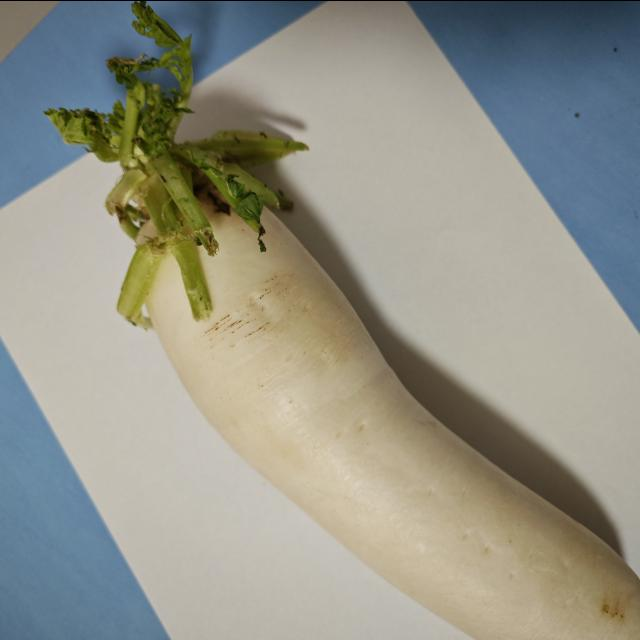-Kitchen waste - white radish-: (121, 169, 640, 638)
